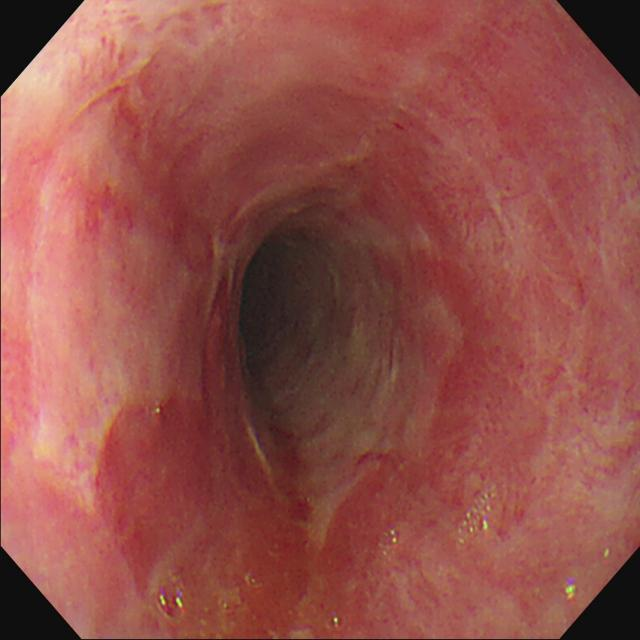A: (365, 116, 640, 451), (91, 395, 313, 640), (314, 450, 469, 640), (73, 81, 216, 277), (189, 259, 255, 397)
